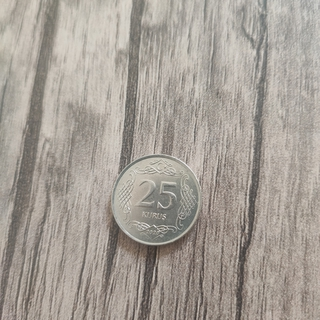25KURUS: (109, 153, 201, 247)
